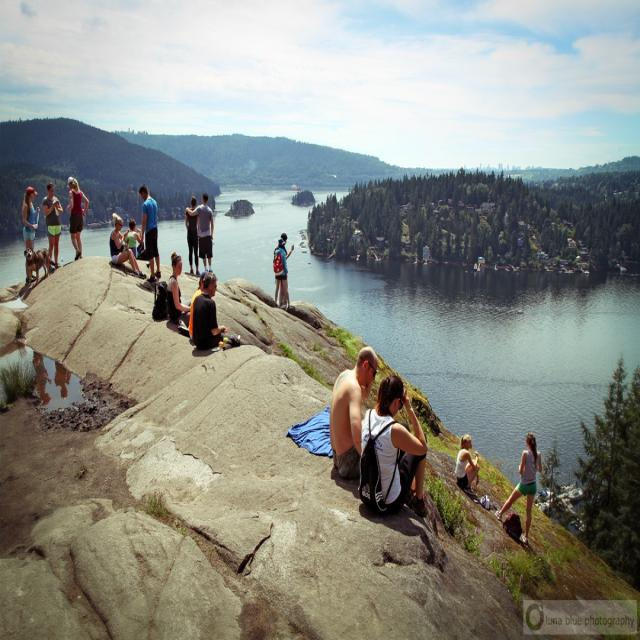body: (327, 463, 440, 573), (357, 372, 430, 520), (328, 345, 380, 484), (455, 481, 538, 560), (493, 431, 542, 547), (191, 269, 241, 353), (109, 211, 148, 281), (16, 260, 75, 302), (138, 183, 162, 284), (163, 315, 219, 358), (185, 191, 214, 274), (65, 175, 91, 262), (106, 258, 163, 296), (166, 251, 193, 328), (41, 181, 64, 271), (22, 186, 41, 284), (453, 432, 481, 491), (184, 194, 202, 276), (188, 270, 208, 343), (272, 237, 290, 310), (279, 232, 295, 310), (124, 217, 142, 260)
